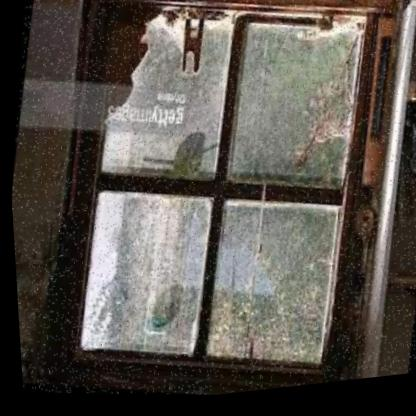Window: (35, 0, 388, 408)
